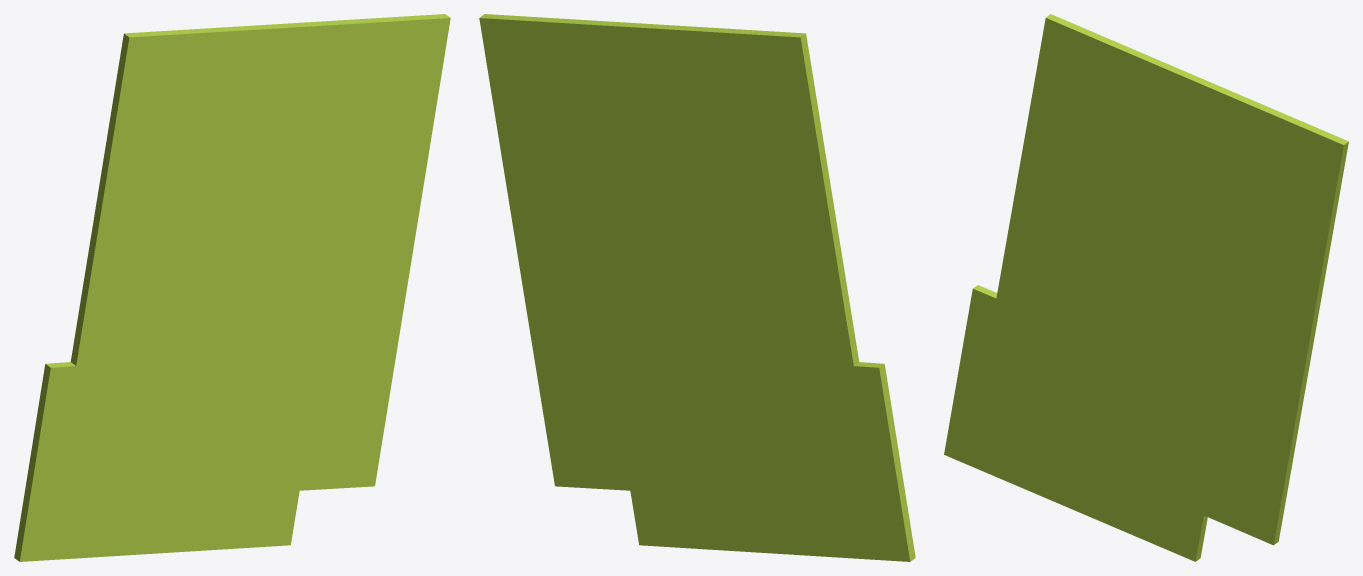
3 views of the same model, side by side, from view 1: azimuth 30°, elevation 25°; view 2: azimuth 150°, elevation 25°; view 3: azimuth 330°, elevation 25° (orthographic). The views are drawn at different scales.
Parts seen in each view (by area): view 1: osm-way27917482-F-1; view 2: osm-way27917482-F-1; view 3: osm-way27917482-F-1.
Boxes of the visible parts, x1,y1,x2,y2 form: osm-way27917482-F-1: [14, 14, 450, 561]; osm-way27917482-F-1: [479, 14, 915, 561]; osm-way27917482-F-1: [944, 14, 1348, 561].
Size of the model in its own units: 6.8 by 8.25 by 0.15.
